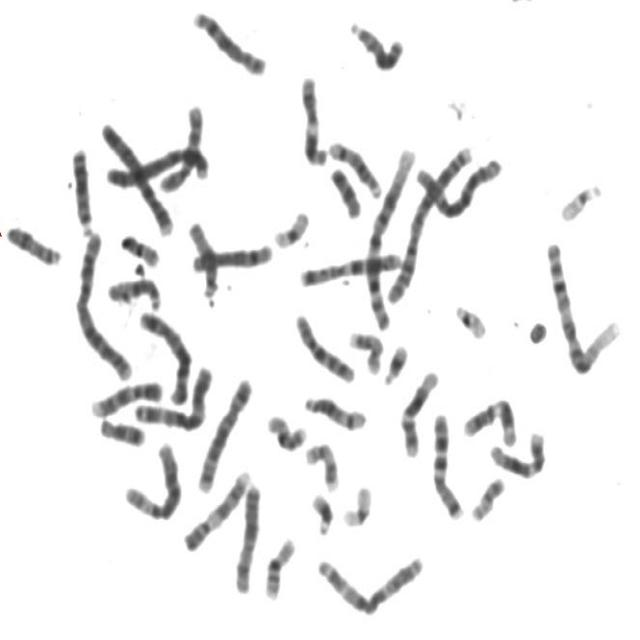A1: (542, 233, 626, 376), (361, 141, 418, 332)
A2: (382, 137, 476, 306), (71, 223, 137, 382)
A3: (313, 546, 429, 618), (130, 358, 216, 432)
B4: (96, 112, 177, 238), (102, 138, 214, 190)
B5: (193, 369, 256, 495), (135, 301, 194, 407)
C10: (291, 305, 360, 385), (155, 95, 207, 196)
C11: (459, 390, 522, 448), (296, 66, 331, 167)
C12: (398, 362, 442, 459), (486, 424, 550, 481)
C6: (411, 147, 507, 220), (120, 434, 186, 522)
C7: (296, 242, 406, 288), (427, 405, 468, 522)
C8: (188, 1, 270, 77), (188, 235, 276, 275)
C9: (179, 463, 254, 553), (86, 372, 166, 420)
D13: (346, 12, 408, 73), (66, 139, 96, 235)
D14: (324, 133, 386, 200), (300, 386, 371, 432)
D15: (184, 213, 221, 299), (103, 269, 165, 312)
E16: (260, 528, 299, 602), (263, 406, 311, 453)
E17: (301, 434, 344, 492), (344, 323, 387, 375)
E18: (326, 158, 366, 220), (95, 410, 149, 448)
F19: (269, 202, 314, 250), (339, 476, 376, 528)
F20: (467, 468, 509, 524), (116, 225, 162, 269)
G21: (307, 486, 338, 538), (379, 336, 411, 386)
G22: (556, 174, 606, 223), (450, 296, 491, 340)
X: (230, 476, 265, 596)
